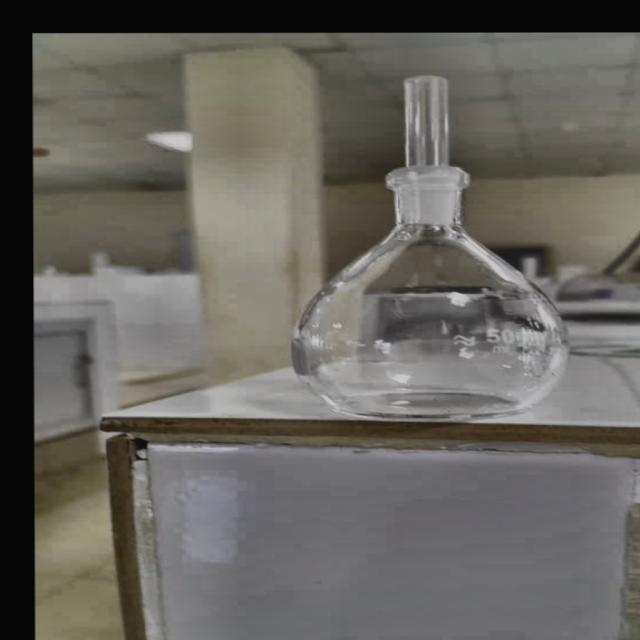Density Bottle for Liquids: (276, 74, 573, 417)
